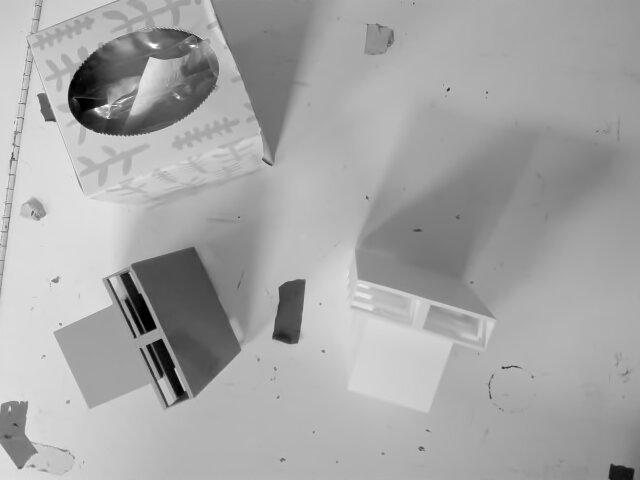grey pallet: (44, 242, 251, 423)
white pallet: (327, 235, 506, 416)
